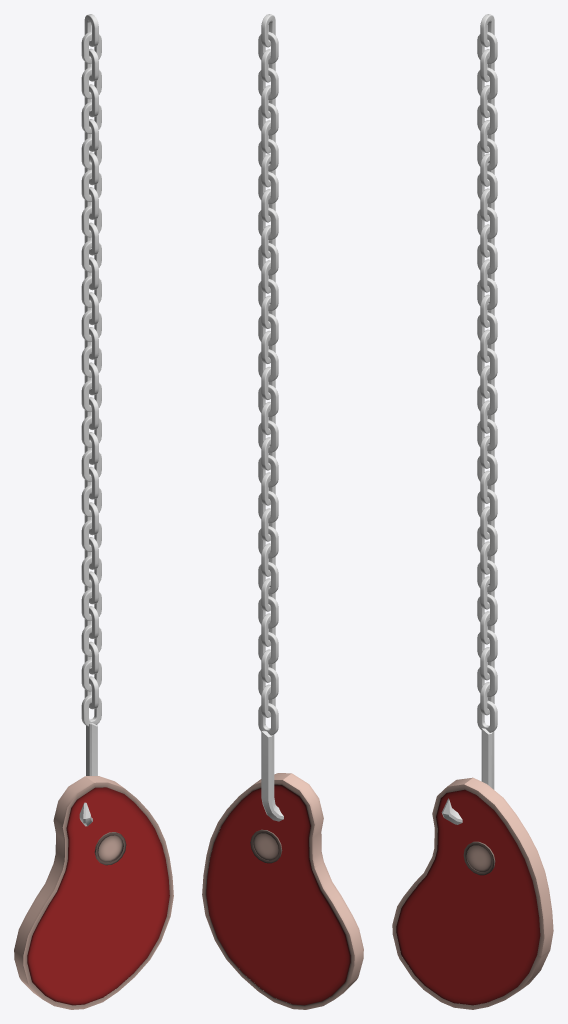
The model's file is hook_stake.fbx.
The picture shows the model from 3 angles, left to right: view 1: azimuth 30°, elevation 25°; view 2: azimuth 150°, elevation 25°; view 3: azimuth 330°, elevation 25°; orthographic projection.
Visible parts, largest first — view 1: Plane.003, Cube.002, Cube.001; view 2: Plane.003, Cube.002, Cube.001; view 3: Plane.003, Cube.002, Cube.001.
Part boxes in pixels (x1=…): Plane.003: x1=14, y1=776, x2=173, y2=1009; Cube.002: x1=81, y1=14, x2=101, y2=726; Cube.001: x1=79, y1=723, x2=97, y2=826; Plane.003: x1=202, y1=773, x2=363, y2=1009; Cube.002: x1=258, y1=14, x2=278, y2=735; Cube.001: x1=261, y1=730, x2=283, y2=821; Plane.003: x1=392, y1=777, x2=553, y2=1009; Cube.002: x1=477, y1=14, x2=497, y2=732; Cube.001: x1=441, y1=728, x2=494, y2=824.
Size of the model in its own units: 136 by 845 by 38.25.
